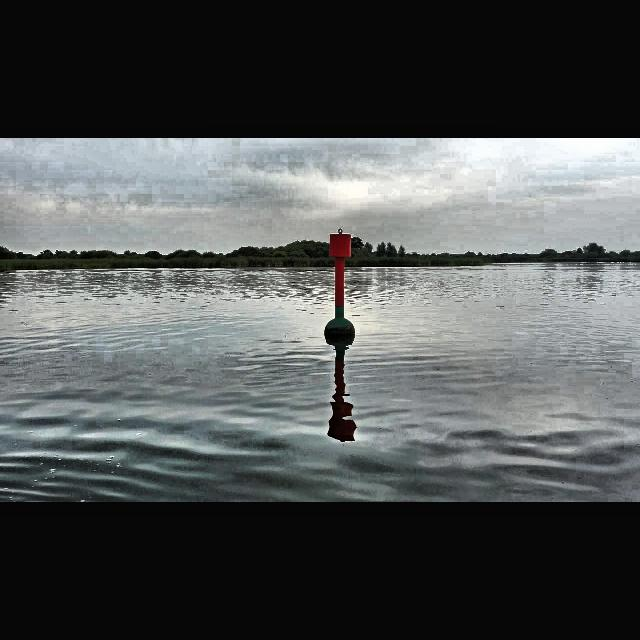buoy: (324, 228, 356, 338)
